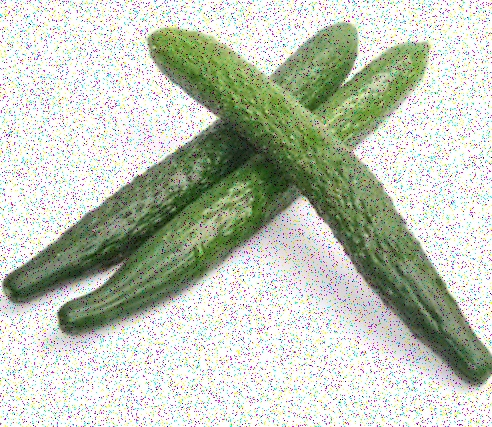cucumber: (152, 26, 490, 376), (68, 40, 430, 337), (5, 24, 353, 289)
